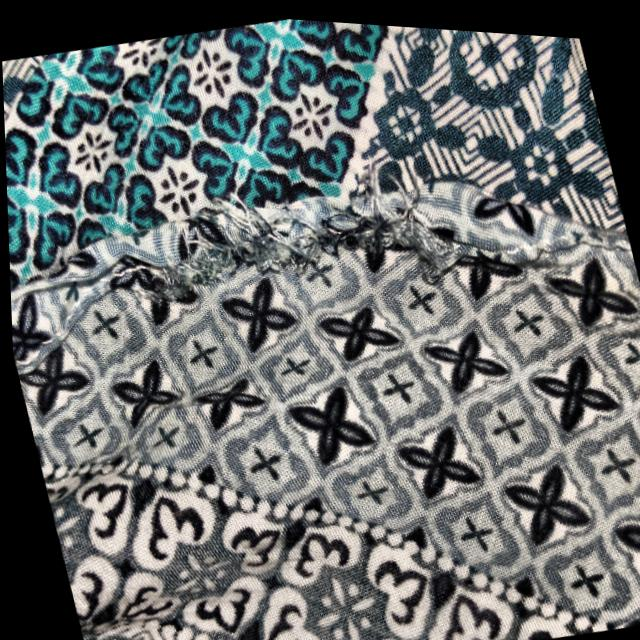Stitch: (49, 126, 503, 375)
